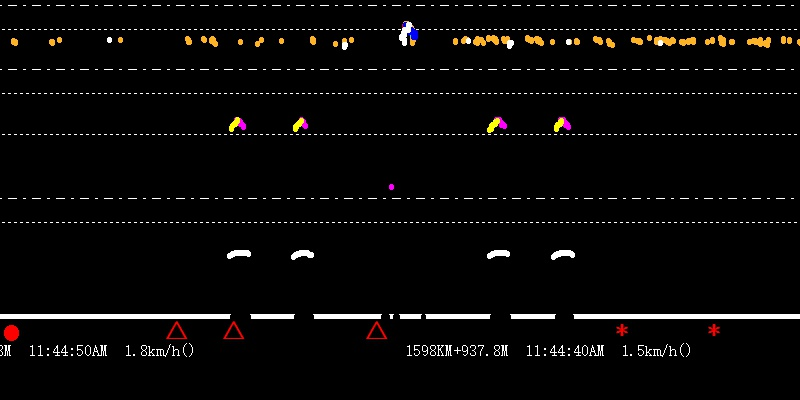L: (219, 115, 576, 264)
circle: (4, 323, 20, 343)
face_2: (396, 17, 418, 48)
star: (704, 321, 723, 338), (615, 321, 628, 336)
